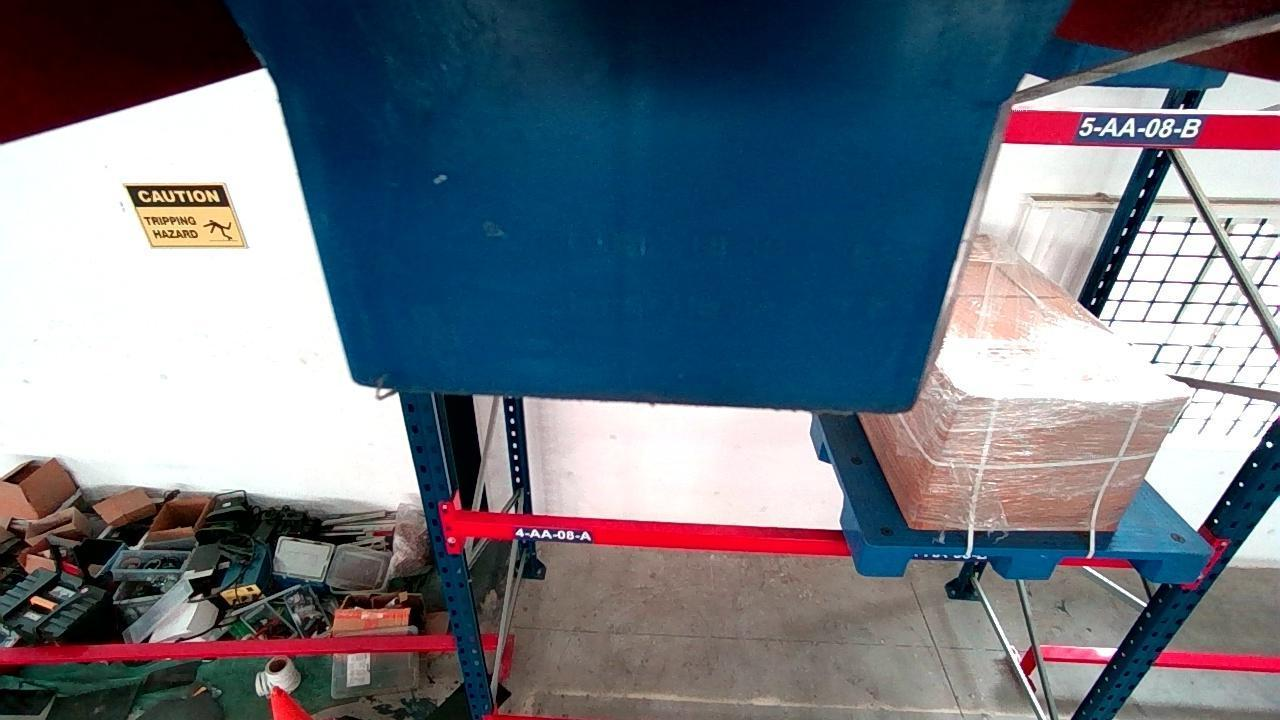h_rack: (460, 513, 852, 557), (1005, 114, 1278, 150)
small_pallet: (863, 545, 1209, 582)
